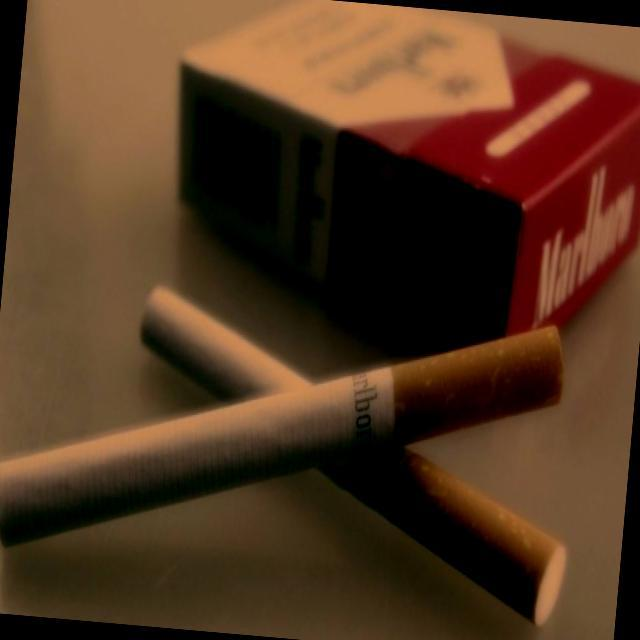cigarette: (0, 273, 572, 595)
